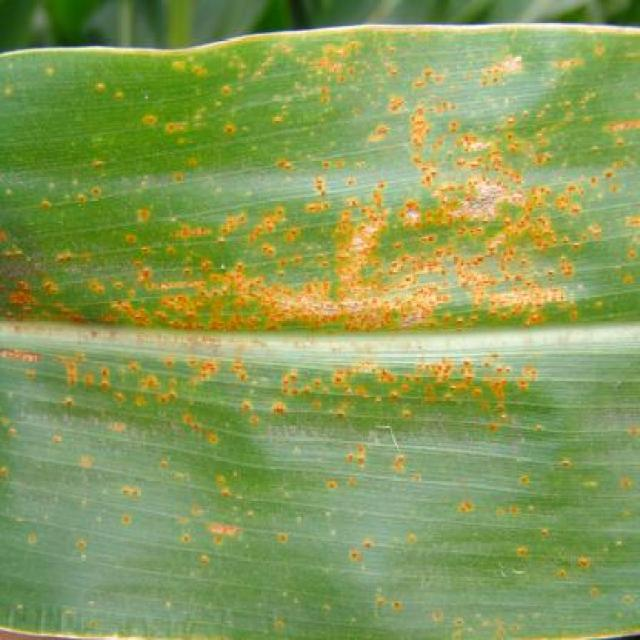Corn_Rust: (18, 24, 639, 640)
